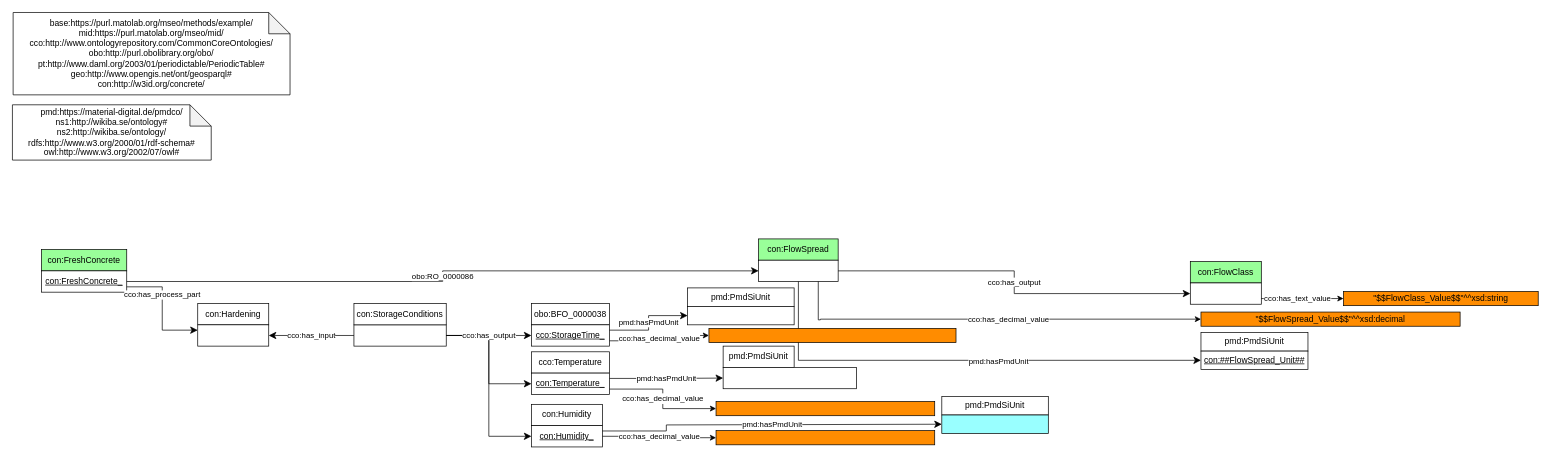
The diagram is 1551 pixels wide and 459 high, and some of its shapes have lost their labels. Each missing label, with the centre of its shape:
"$$Humidity_Value$$"^^xsd:decimal: [825,437]
"$$StorageTime_Value$$"^^xsd:decimal: [832,335]
"$$Temperature_Value$$"^^xsd:decimal: [825,408]
con: FlowClass_: [1225,293]
con: FlowSpread_: [798,271]
con:##Humidity_Unit##: [994,423]
con:##StorageTime_Unit##: [740,315]
con:##Temperature_Unit##: [789,378]
con:Hardening _: [233,335]
con:StorageConditions _: [399,335]
